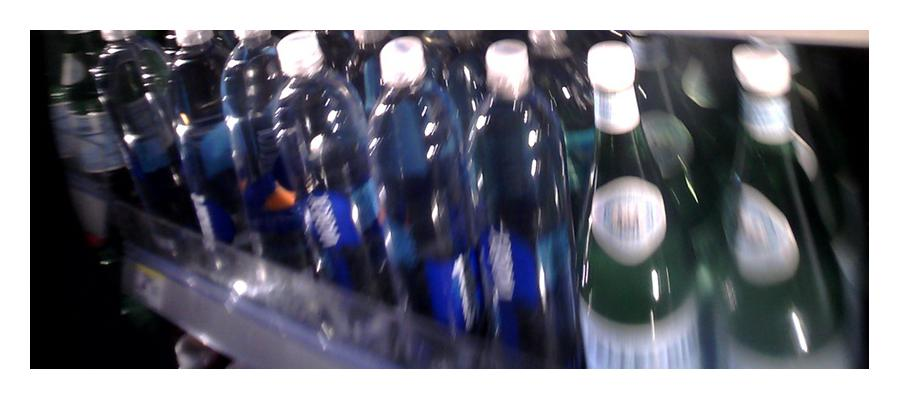bottle: (267, 37, 380, 343), (470, 55, 578, 368), (579, 76, 689, 357), (364, 46, 459, 362), (722, 55, 816, 354), (169, 31, 238, 280), (225, 25, 287, 300)
